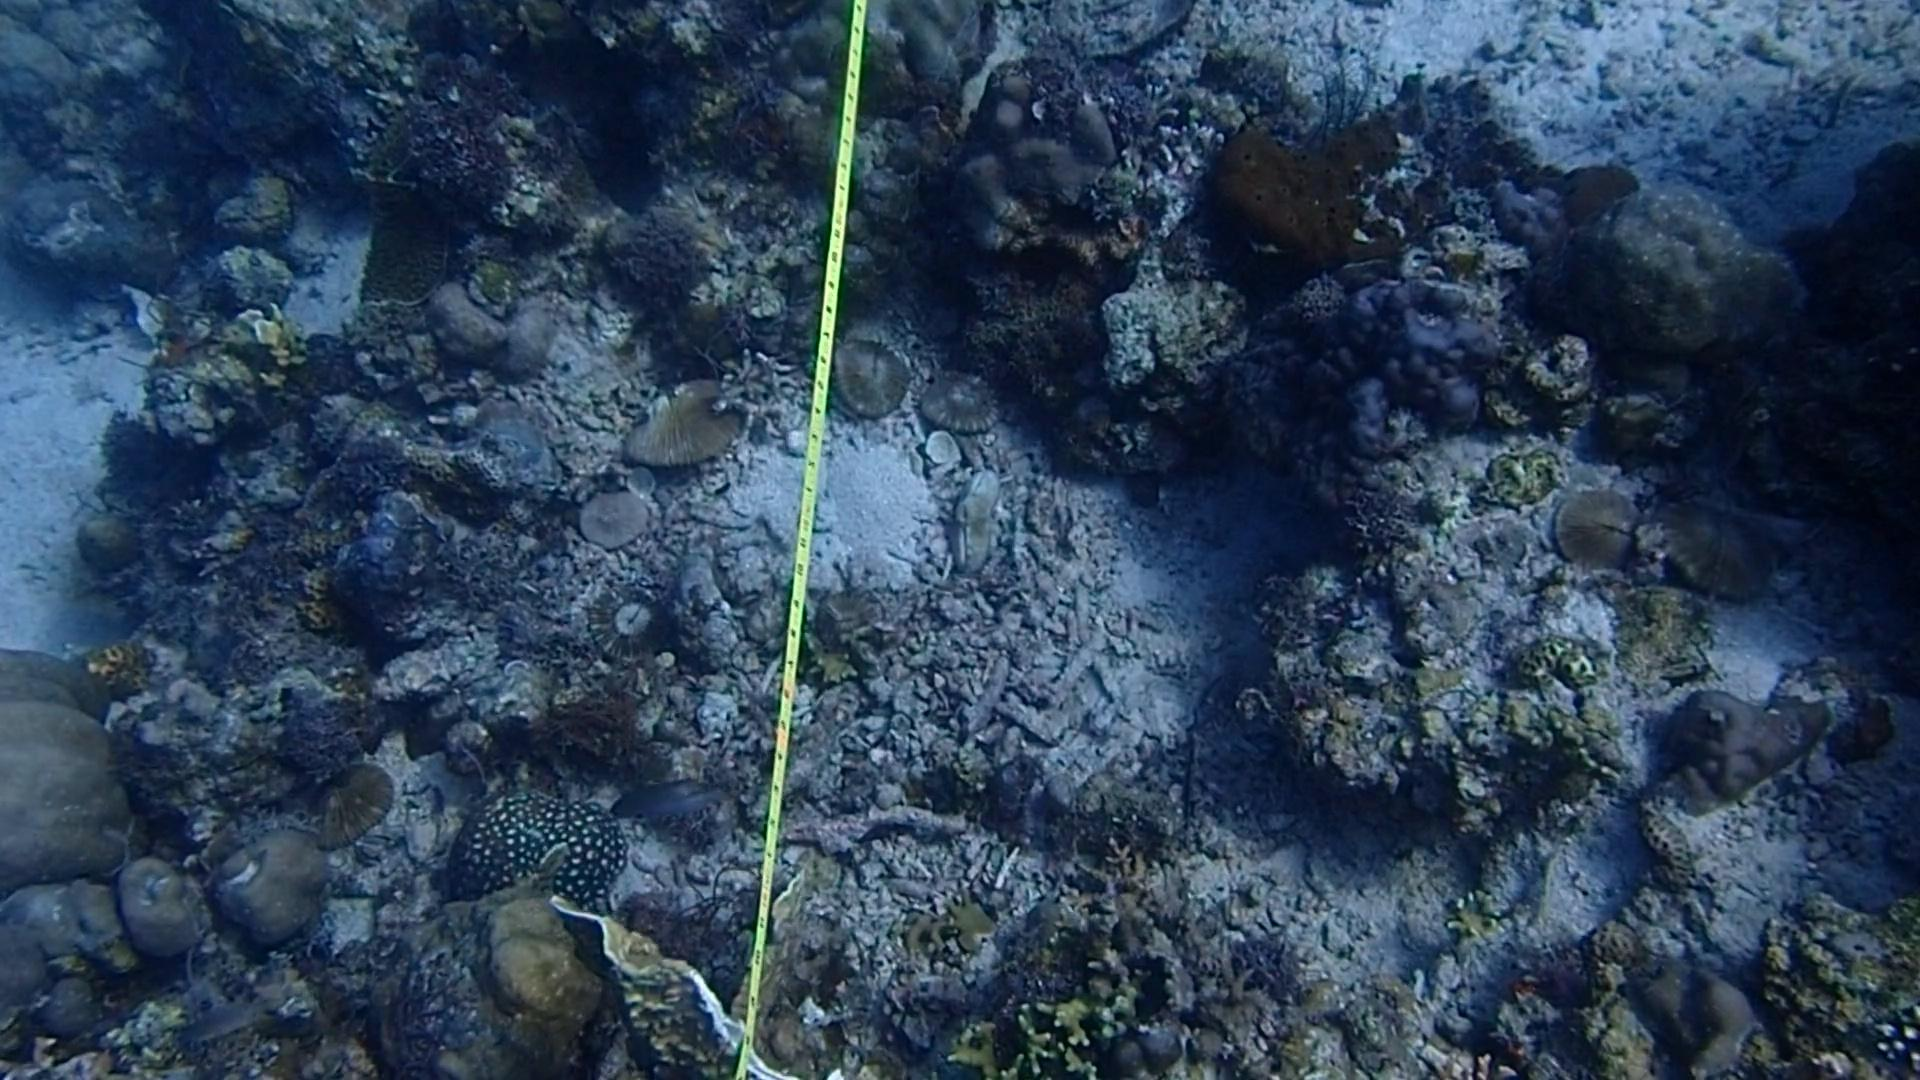Light Fish: (600, 767, 732, 840)
